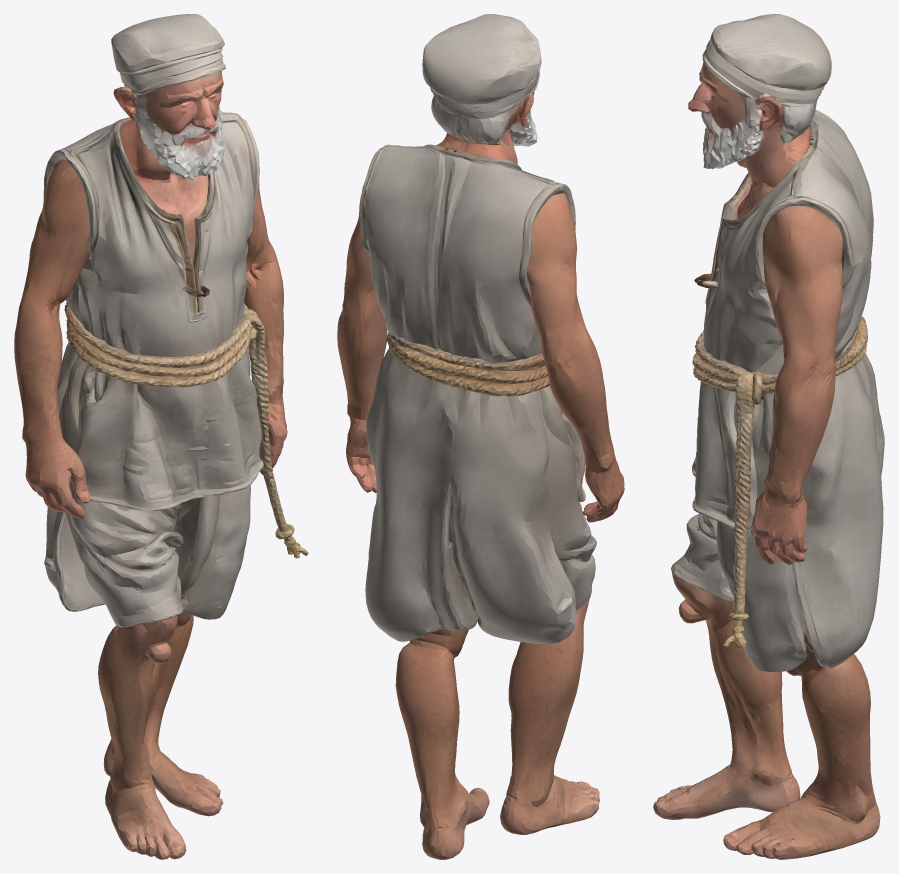
The model's file is uruk_plowman_rodin_source.glb.
The picture shows the model from 3 angles, left to right: view 1: azimuth 30°, elevation 25°; view 2: azimuth 150°, elevation 25°; view 3: azimuth 270°, elevation 25°; orthographic projection. The views are drawn at different scales.
Visible parts, largest first — view 1: model; view 2: model; view 3: model.
Boxes of the visible parts, bbox=[...] form: model: bbox=[14, 14, 308, 859]; model: bbox=[337, 14, 624, 859]; model: bbox=[653, 14, 884, 859].
Bounding box in the file's own units: 0.6634 × 1.9 × 0.4905.
1 material, 1 textured.
